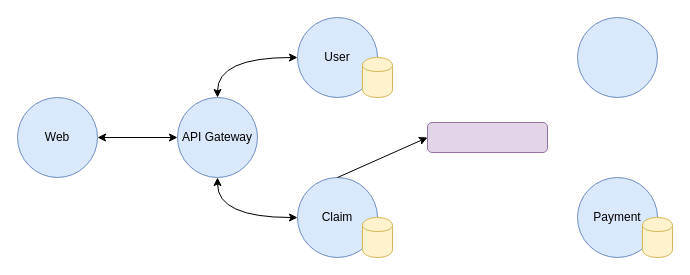
Image size: 690x275. Some labels were removed from this diagram. Here are the shapes that lost their labels. From the top down, the box of each, then its label:
(576, 16, 658, 98): Calculation
(426, 122, 548, 152): AWS MQ
